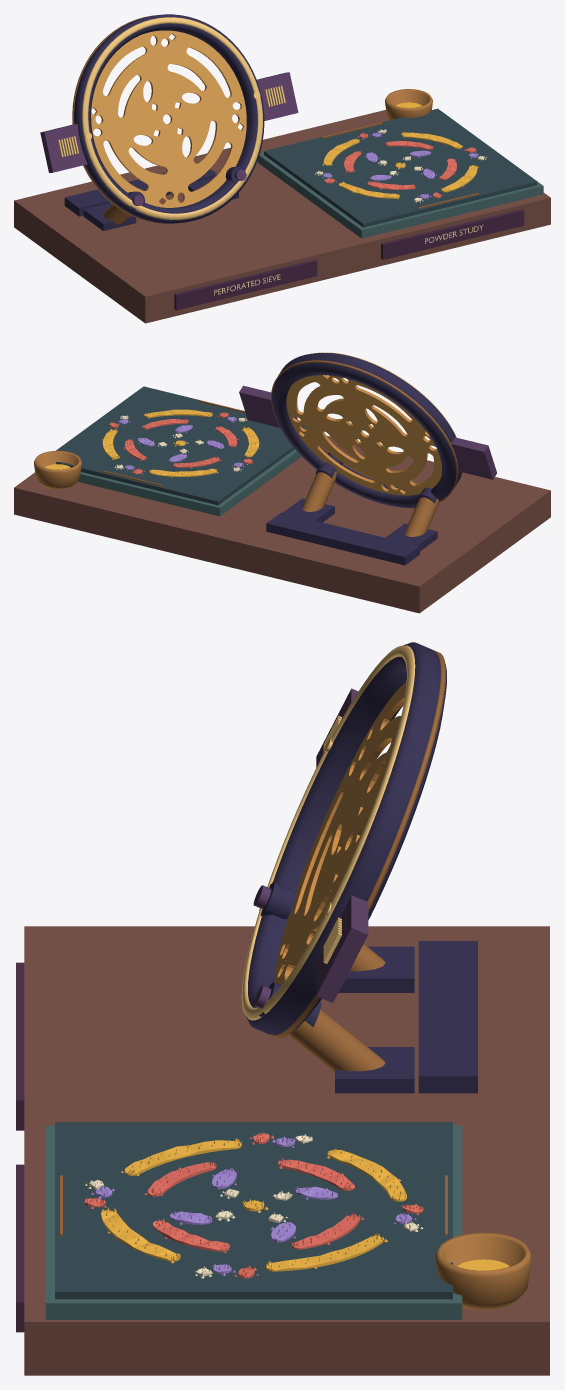
File: deepavali-rangoli-pattern-sieve.glb
3 views of the same model, one above another, from view 1: azimuth 30°, elevation 25°; view 2: azimuth 150°, elevation 25°; view 3: azimuth 270°, elevation 25° (orthographic). The views are drawn at different scales.
Parts seen in each view (by area): view 1: Thin exhibition board low wood body, PATTERN_SIEVE_TRUE_PERFORATED_PLATE, Dark matte sample tile under separate powder print, Continuous dark aubergine rim shell, Prominent rolled golden rim bead, Powder plate angled porcelain stepped bevel, Front matt floating sign plaque 1, Front matt floating sign plaque -1, MATCHED_POWDER_TRANSFER_Coarse marigold study powder, Small opposed patterned hand grip -1, Small opposed patterned hand grip 1, MATCHED_POWDER_TRANSFER_Coarse watermelon study powder (+5 smaller); view 2: Thin exhibition board low wood body, Dark matte sample tile under separate powder print, PATTERN_SIEVE_TRUE_PERFORATED_PLATE, Continuous dark aubergine rim shell, Small open presentation rail behind lifted tool, Powder plate angled porcelain stepped bevel, MATCHED_POWDER_TRANSFER_Coarse marigold study powder, Mini open brass specimen cup, Small opposed patterned hand grip -1, MATCHED_POWDER_TRANSFER_Coarse watermelon study powder, Small opposed patterned hand grip 1, Secondary etched lower rim line (+5 smaller); view 3: Thin exhibition board low wood body, Dark matte sample tile under separate powder print, Continuous dark aubergine rim shell, Powder plate angled porcelain stepped bevel, PATTERN_SIEVE_TRUE_PERFORATED_PLATE, Small open presentation rail behind lifted tool, MATCHED_POWDER_TRANSFER_Coarse marigold study powder, Mini open brass specimen cup, Prominent rolled golden rim bead, MATCHED_POWDER_TRANSFER_Coarse watermelon study powder, Set-in forked support post 1, Small opposed patterned hand grip 1 (+8 smaller).
Part boxes in pixels (x1,y1,x2,y2): Thin exhibition board low wood body: [14, 110, 550, 323]; PATTERN_SIEVE_TRUE_PERFORATED_PLATE: [91, 30, 246, 207]; Dark matte sample tile under separate powder print: [264, 108, 537, 227]; Continuous dark aubergine rim shell: [74, 14, 264, 223]; Prominent rolled golden rim bead: [82, 17, 262, 219]; Powder plate angled porcelain stepped bevel: [257, 110, 543, 238]; Front matt floating sign plaque 1: [381, 209, 524, 259]; Front matt floating sign plaque -1: [174, 259, 317, 310]; MATCHED_POWDER_TRANSFER_Coarse marigold study powder: [322, 132, 478, 199]; Small opposed patterned hand grip -1: [40, 124, 87, 172]; Small opposed patterned hand grip 1: [257, 72, 298, 120]; MATCHED_POWDER_TRANSFER_Coarse watermelon study powder: [324, 132, 476, 198]; Thin exhibition board low wood body: [14, 436, 550, 613]; Dark matte sample tile under separate powder print: [56, 386, 306, 505]; PATTERN_SIEVE_TRUE_PERFORATED_PLATE: [286, 375, 441, 495]; Continuous dark aubergine rim shell: [272, 353, 461, 507]; Small open presentation rail behind lifted tool: [266, 512, 419, 565]; Powder plate angled porcelain stepped bevel: [56, 389, 301, 516]; MATCHED_POWDER_TRANSFER_Coarse marigold study powder: [102, 409, 259, 477]; Mini open brass specimen cup: [34, 450, 81, 489]; Small opposed patterned hand grip -1: [451, 437, 496, 479]; MATCHED_POWDER_TRANSFER_Coarse watermelon study powder: [109, 412, 252, 474]; Small opposed patterned hand grip 1: [239, 385, 279, 427]; Secondary etched lower rim line: [271, 360, 458, 508]; Thin exhibition board low wood body: [24, 926, 549, 1375]; Dark matte sample tile under separate powder print: [55, 1122, 452, 1299]; Continuous dark aubergine rim shell: [246, 642, 446, 1034]; Powder plate angled porcelain stepped bevel: [45, 1125, 462, 1319]; PATTERN_SIEVE_TRUE_PERFORATED_PLATE: [274, 681, 406, 985]; Small open presentation rail behind lifted tool: [418, 941, 477, 1093]; MATCHED_POWDER_TRANSFER_Coarse marigold study powder: [101, 1138, 406, 1271]; Mini open brass specimen cup: [435, 1232, 531, 1310]; Prominent rolled golden rim bead: [241, 645, 415, 1020]; MATCHED_POWDER_TRANSFER_Coarse watermelon study powder: [84, 1131, 423, 1278]; Set-in forked support post 1: [288, 1009, 385, 1072]; Small opposed patterned hand grip 1: [316, 895, 368, 1002].
Bounding box in the file's own units: 0.53 × 0.2492 × 0.2892.
